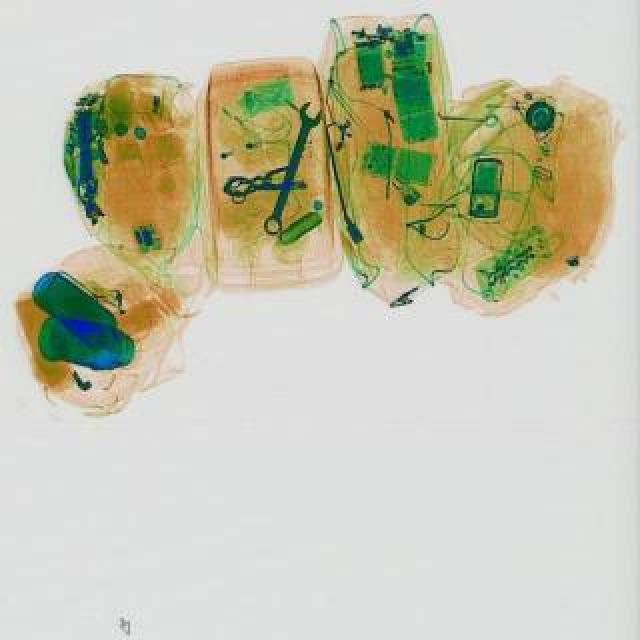scissors: (262, 104, 328, 240)
